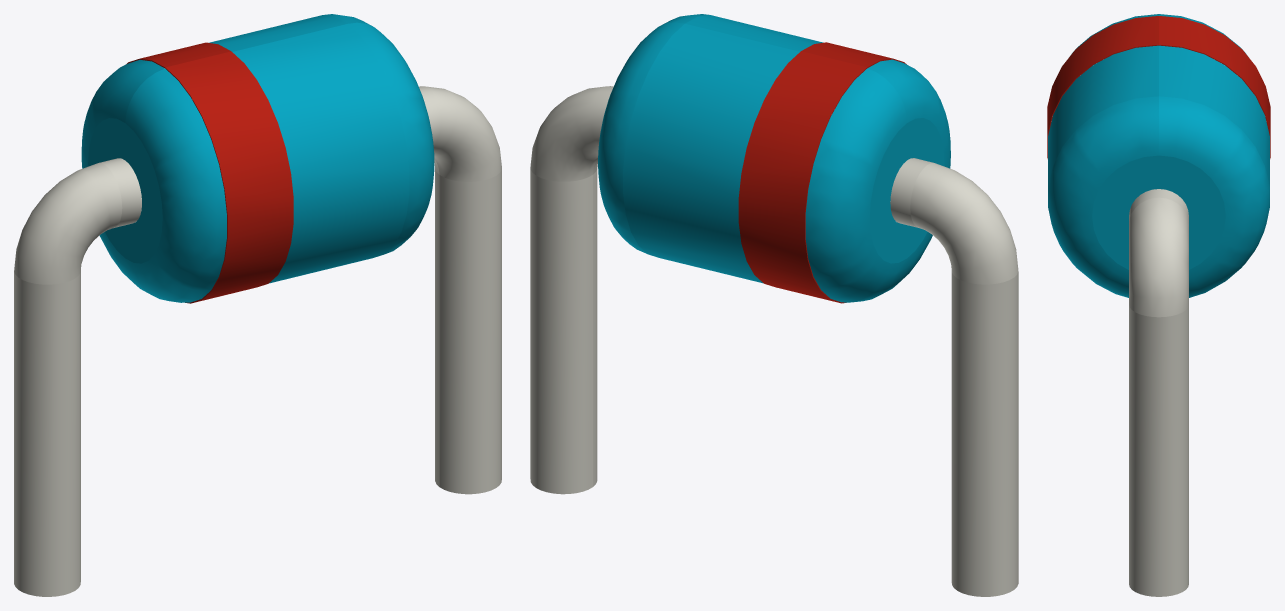
The model's file is kc-d_t-1_p5.08mm_horizontal.glb.
3 renders of one model, left to right at view 1: azimuth 30°, elevation 25°; view 2: azimuth 150°, elevation 25°; view 3: azimuth 270°, elevation 25°, orthographic. The views are drawn at different scales.
Visible parts, largest first — view 1: 0_0.3333333333333333_0.5_0, 0.6666666666666666_0.6666666666666666_0.5833333333333334_0.8, 0.4166666666666667_0_0_0; view 2: 0_0.3333333333333333_0.5_0, 0.6666666666666666_0.6666666666666666_0.5833333333333334_0.8, 0.4166666666666667_0_0_0; view 3: 0_0.3333333333333333_0.5_0, 0.6666666666666666_0.6666666666666666_0.5833333333333334_0.8, 0.4166666666666667_0_0_0.
Boxes of the visible parts, x1,y1,x2,y2 form: 0_0.3333333333333333_0.5_0: (81, 14, 434, 302); 0.6666666666666666_0.6666666666666666_0.5833333333333334_0.8: (14, 86, 501, 596); 0.4166666666666667_0_0_0: (127, 42, 293, 303); 0_0.3333333333333333_0.5_0: (598, 14, 950, 302); 0.6666666666666666_0.6666666666666666_0.5833333333333334_0.8: (530, 86, 1018, 596); 0.4166666666666667_0_0_0: (738, 42, 906, 303); 0_0.3333333333333333_0.5_0: (1048, 14, 1269, 297); 0.6666666666666666_0.6666666666666666_0.5833333333333334_0.8: (1129, 189, 1188, 596); 0.4166666666666667_0_0_0: (1047, 16, 1270, 158).
Size of the model in its own units: 0.578 by 0.561 by 0.2606.
